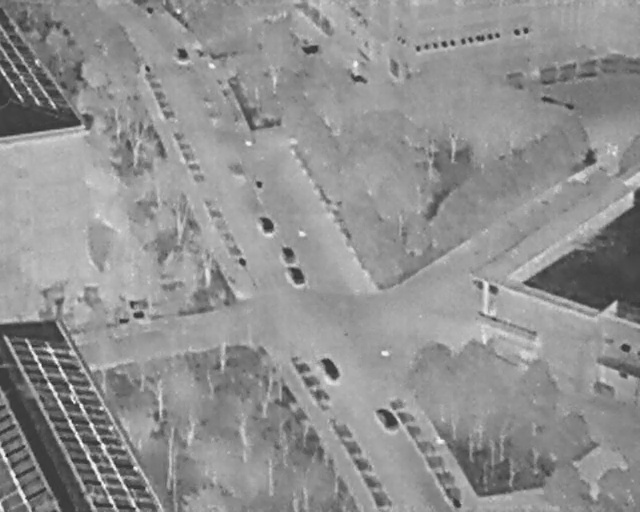Car: (374, 403, 400, 434), (319, 354, 342, 382), (287, 263, 306, 287), (257, 213, 275, 236), (280, 244, 296, 265), (175, 45, 190, 63)
